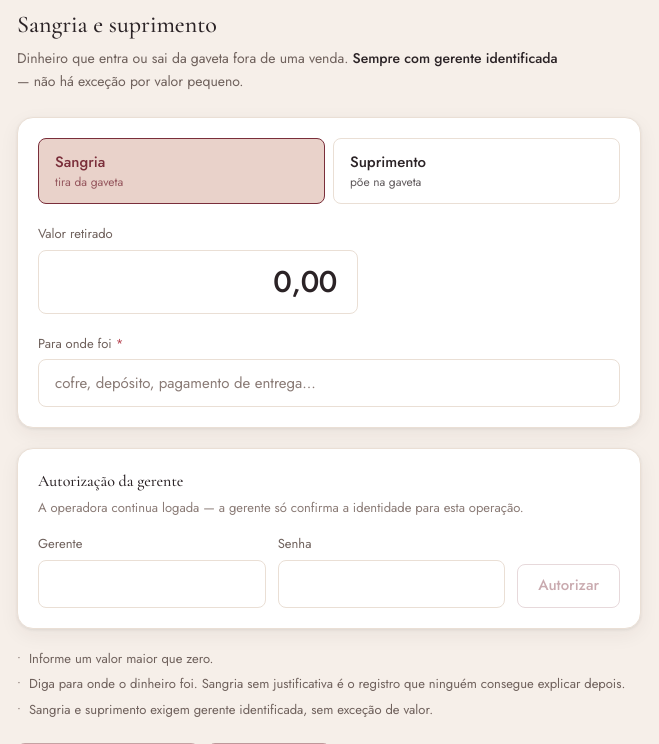
it: TelaMovimentoCaixa — autorização › autentica a gerente SEM derrubar a sessão da operadora
This screenshot has width=659, height=744.
Type "bia" into the field labelled "Gerente" at (152, 584), box [38,560,266,608]
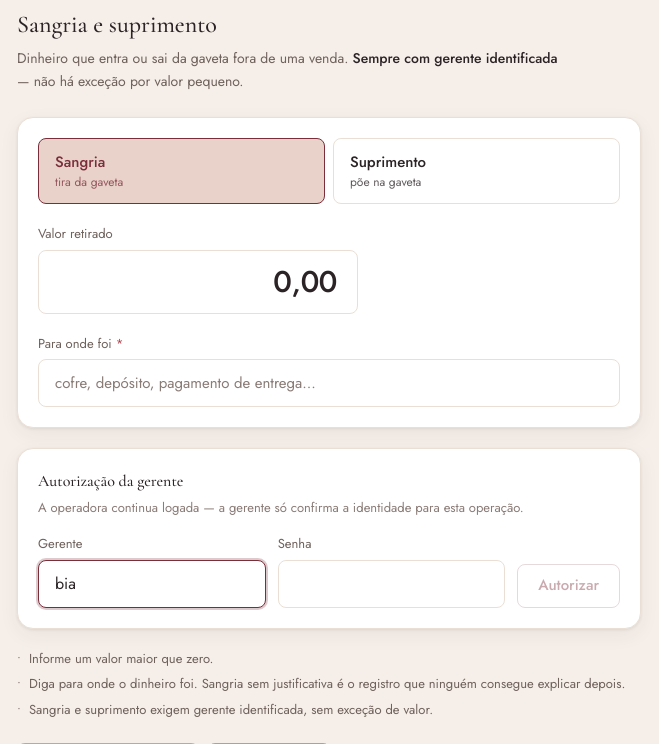
Type "gerente123" into the password field labelled "Senha" at (392, 584), box [278,560,505,608]
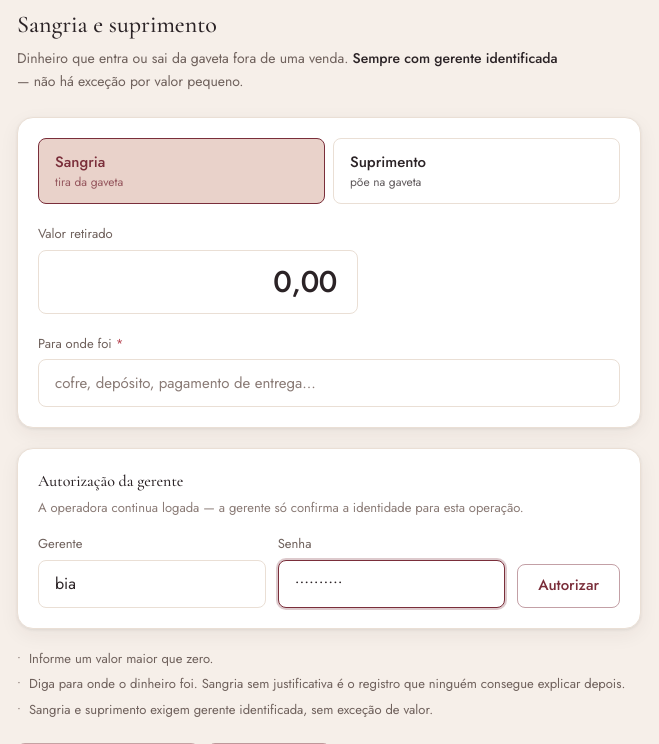
Click the button "Autorizar" at (569, 586), box [517,564,620,608]
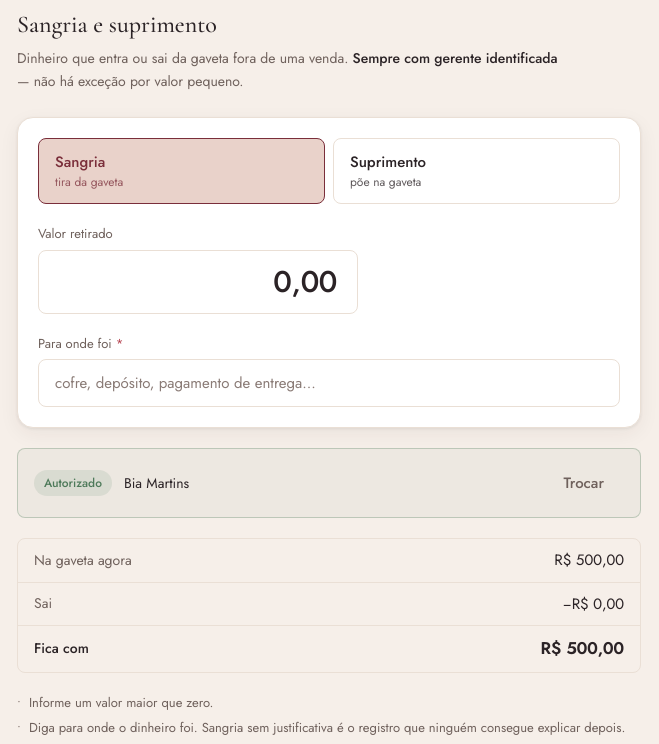
Check: the text "Autorizado" is shown, box [34,470,112,496]
